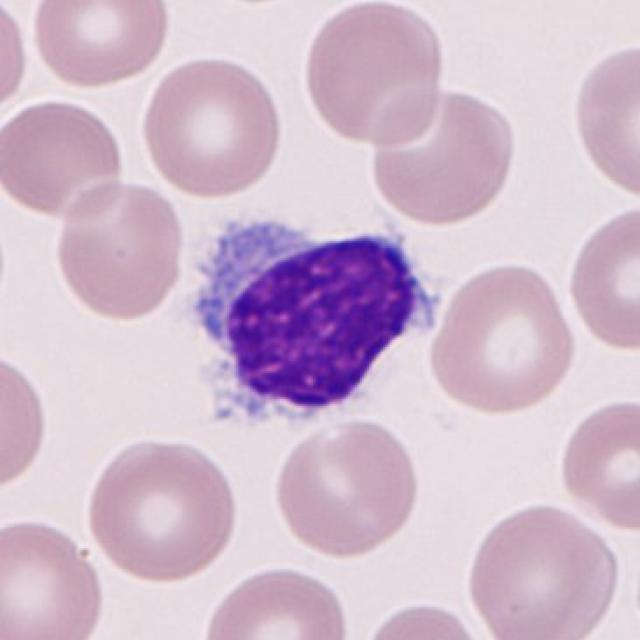Lymphocyte: (172, 203, 452, 442)
RBC: (425, 258, 580, 418), (82, 430, 241, 585), (462, 498, 624, 640), (299, 0, 449, 149), (269, 415, 423, 560), (136, 52, 287, 199), (366, 83, 520, 227), (51, 177, 189, 323), (0, 93, 129, 222), (0, 513, 108, 639), (26, 0, 173, 90), (198, 560, 355, 640), (554, 392, 640, 534), (568, 34, 638, 204), (563, 201, 638, 354), (0, 345, 51, 501), (359, 595, 493, 640), (0, 0, 31, 119)
